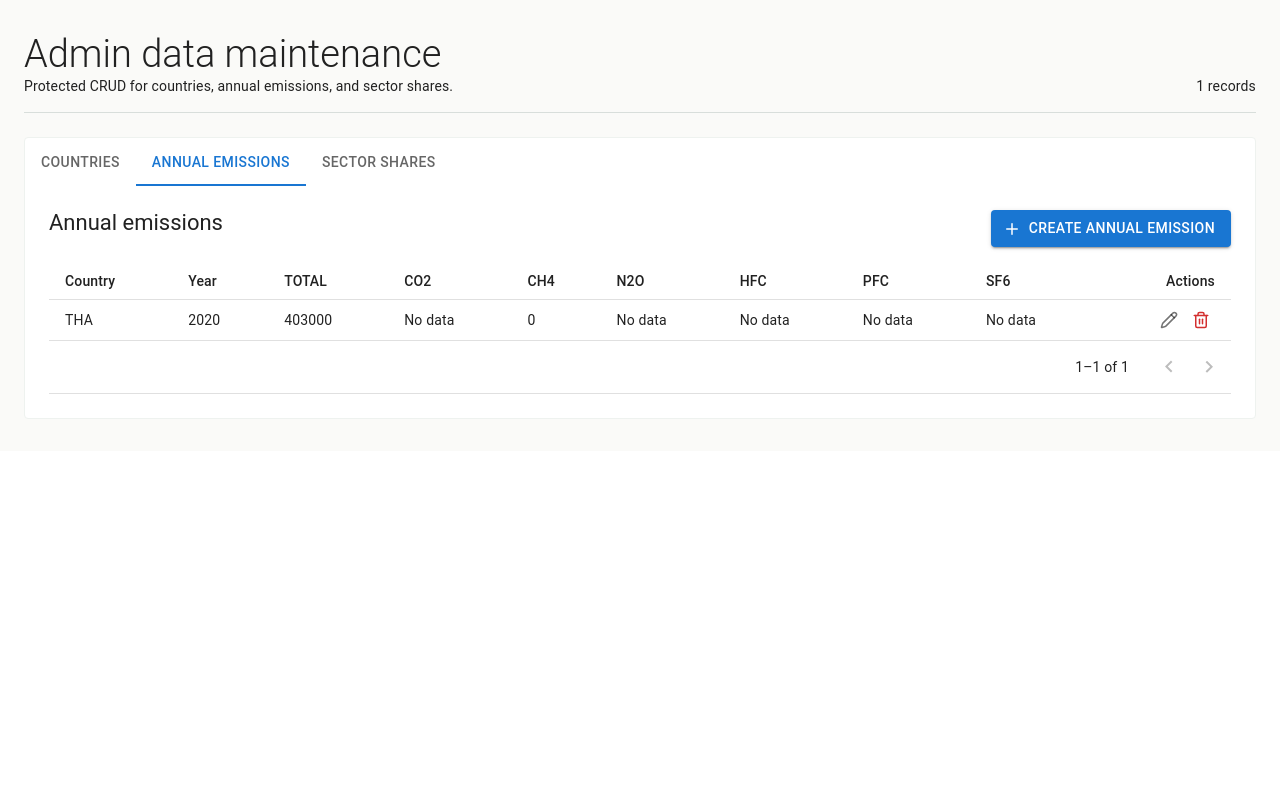
Scenario: AdminPageClient › edits annual emissions while preserving empty numeric inputs as null and zero as zero
Expected: the text "THA" is shown, [49,299,172,340]
Click the button named "edit annual emission" at (1169, 320), box [1155,306,1183,334]
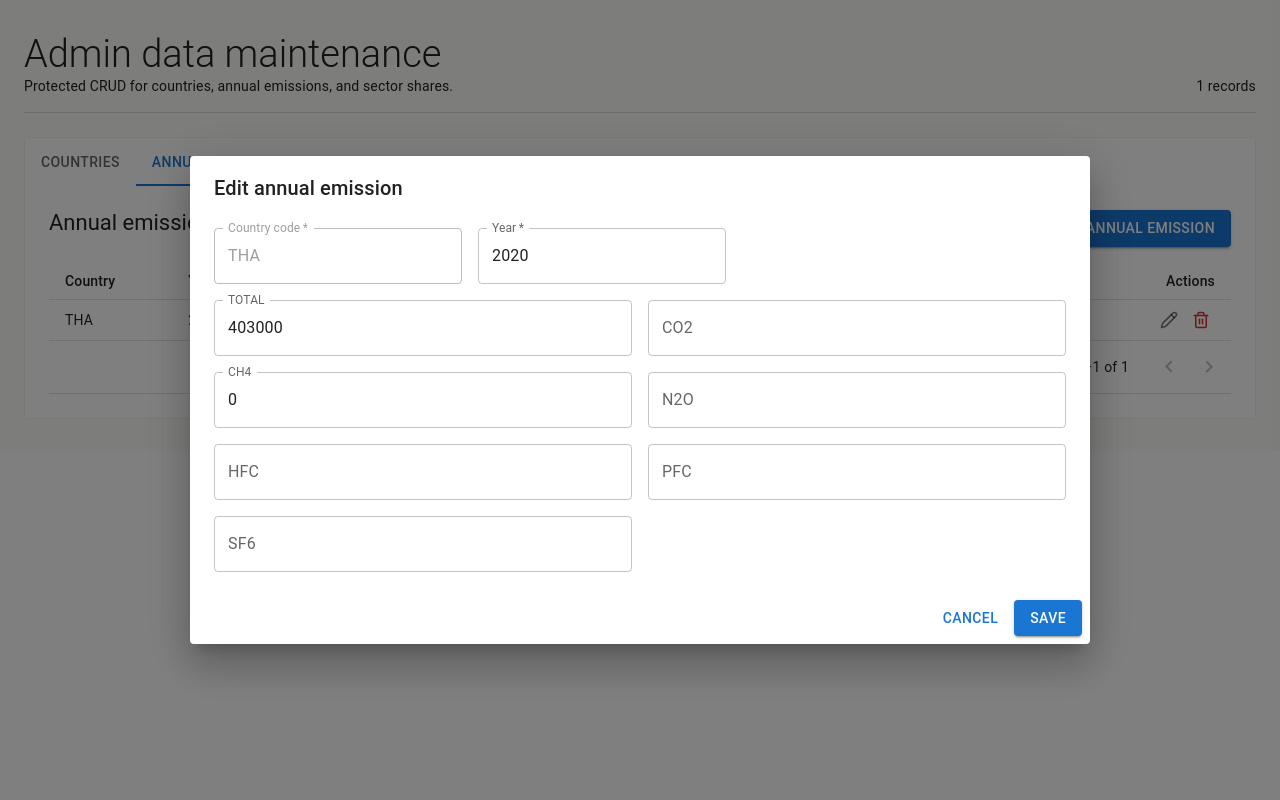
Clear the number field labelled "TOTAL" at (423, 328), box [214,300,632,356]
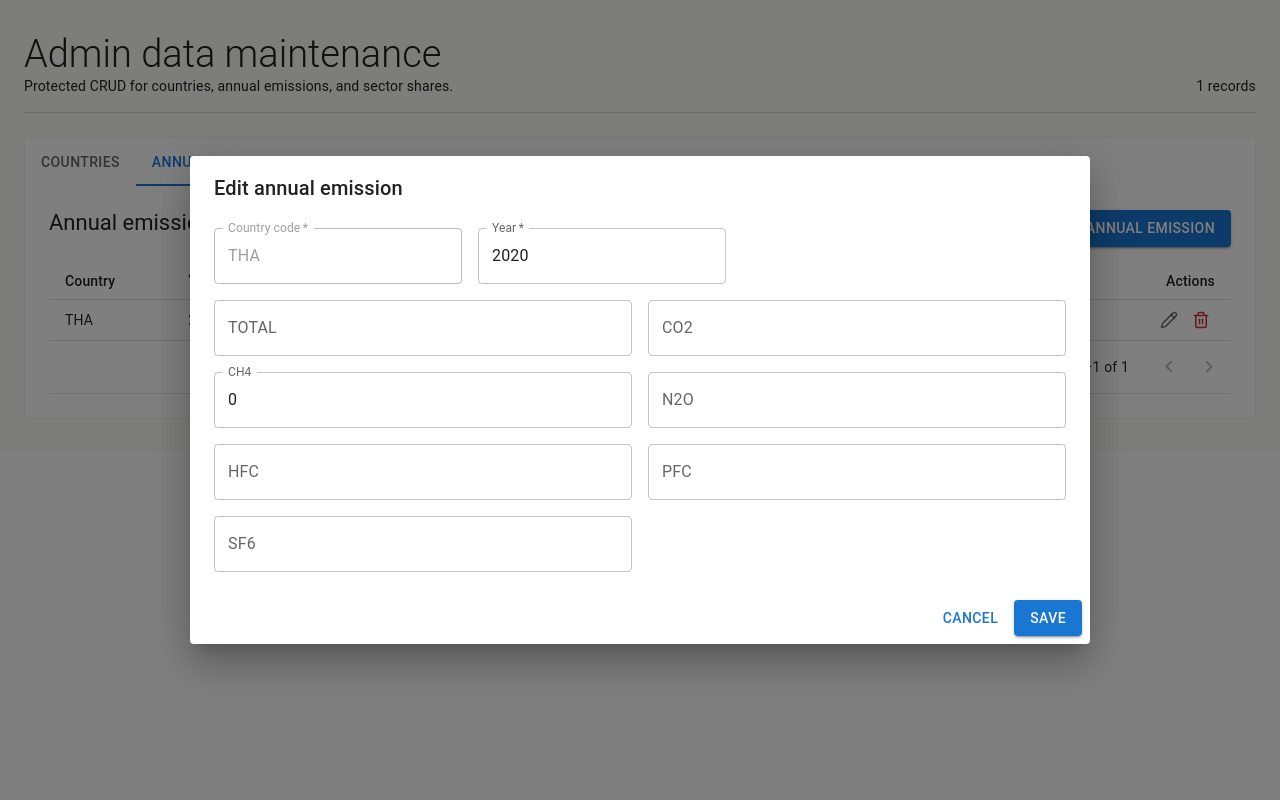
Type "0" into the number field labelled "CO2" at (857, 328), box [648,300,1066,356]
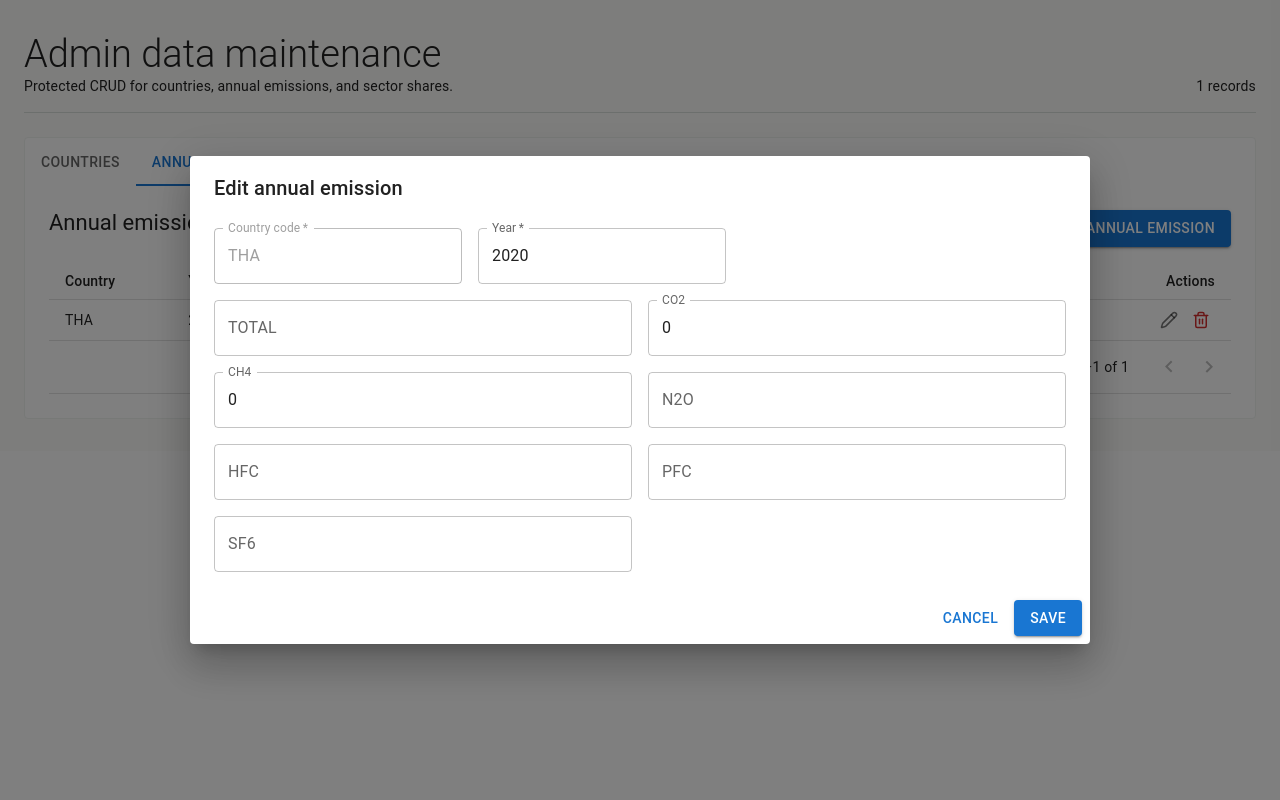
Click the button "Save" at (1048, 618), box [1014,600,1082,636]
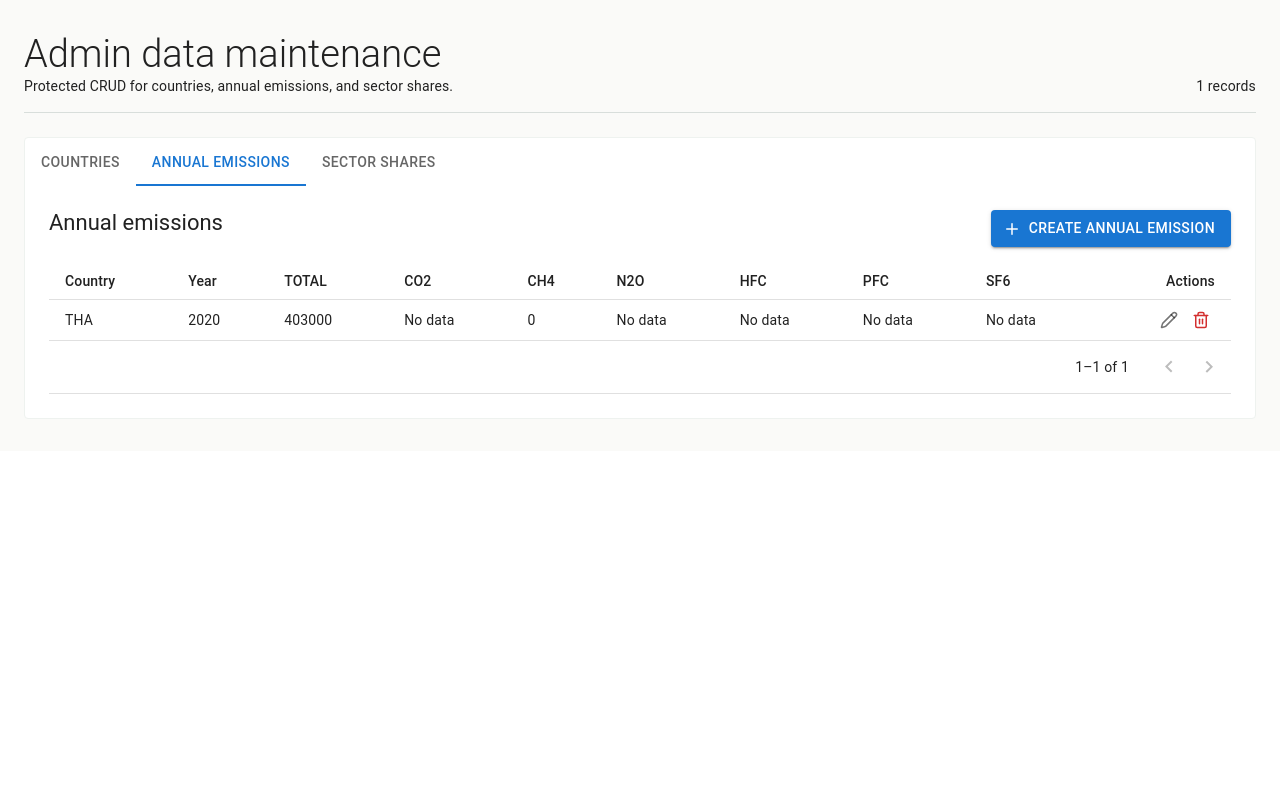
Result: the dialog is gone
